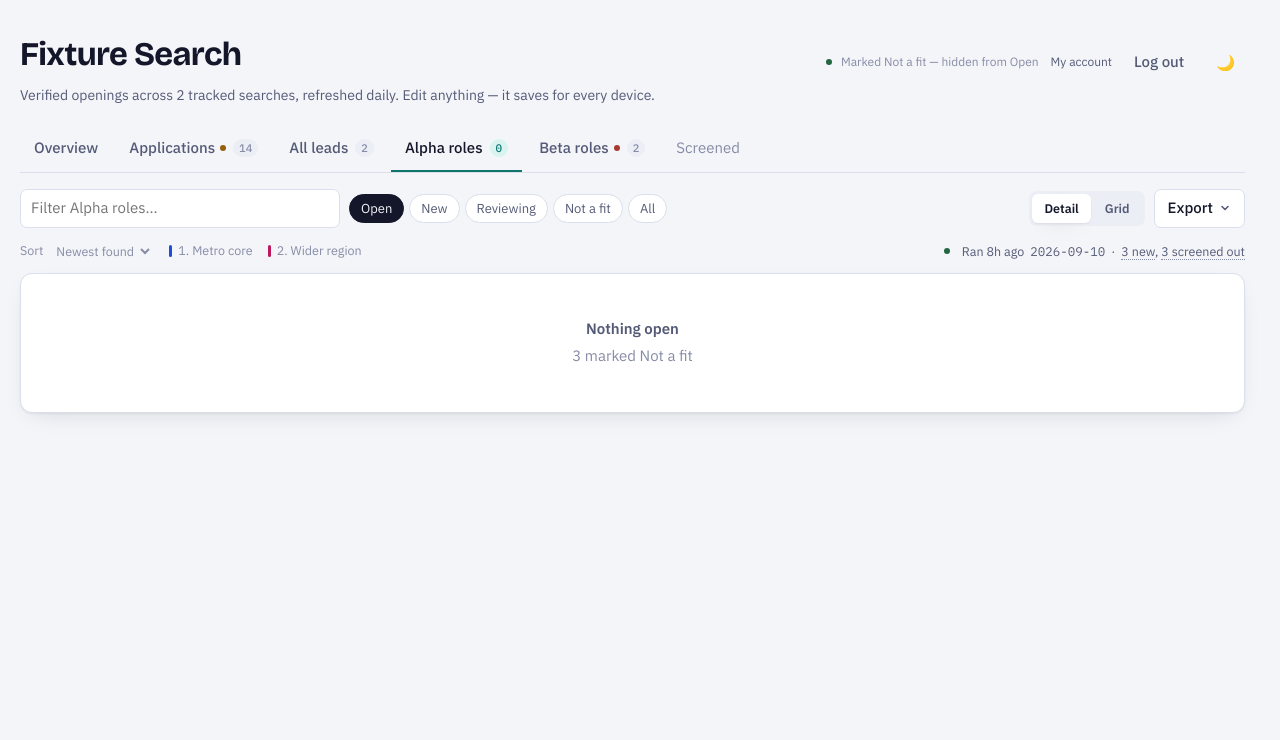
Test: an Open list with nothing open › says nothing is open and links to what was marked Not a fit
Expected: the element with class "empty" shows "Nothing open", [586,318,679,338]
Click the link "3 marked Not a fit" at [577, 356], box [572,346,693,365]
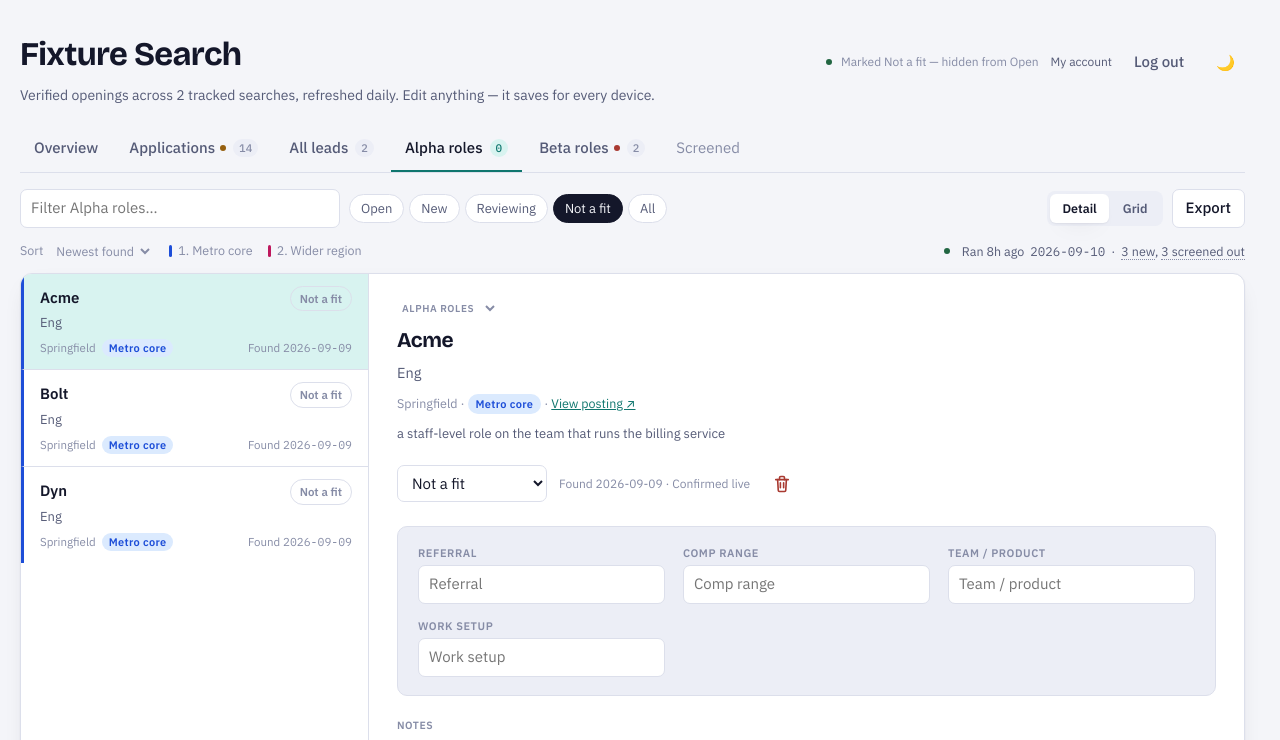
Expected: the button "Not a fit" is shown, [553,194,623,223]
Result: the number of buttons with class "md-row" is 3 at [21,274,368,370]; [21,370,368,467]; [21,467,368,563]
